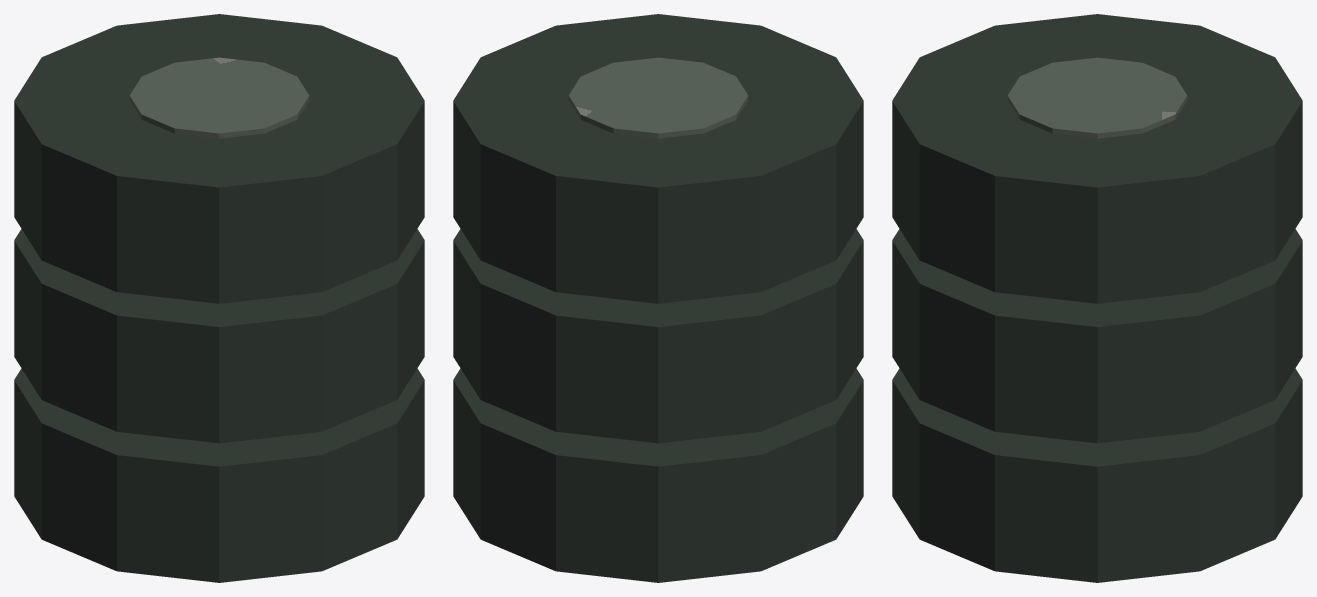
Rendered from tire_stack.gltf.
3 renders of one model, left to right at view 1: azimuth 30°, elevation 25°; view 2: azimuth 150°, elevation 25°; view 3: azimuth 270°, elevation 25°, orthographic.
Parts seen in each view (by area): view 1: tire (×3), rim; view 2: tire (×3), rim; view 3: tire (×3), rim.
Part boxes in pixels (bbox=[...]): tire (×3): bbox=[14, 14, 424, 582]; rim: bbox=[129, 57, 309, 138]; tire (×3): bbox=[453, 14, 863, 582]; rim: bbox=[568, 57, 748, 138]; tire (×3): bbox=[892, 14, 1302, 582]; rim: bbox=[1007, 57, 1187, 138].
Bounding box in the file's own units: 1 × 1.08 × 1.
2 materials, 2 textured.
